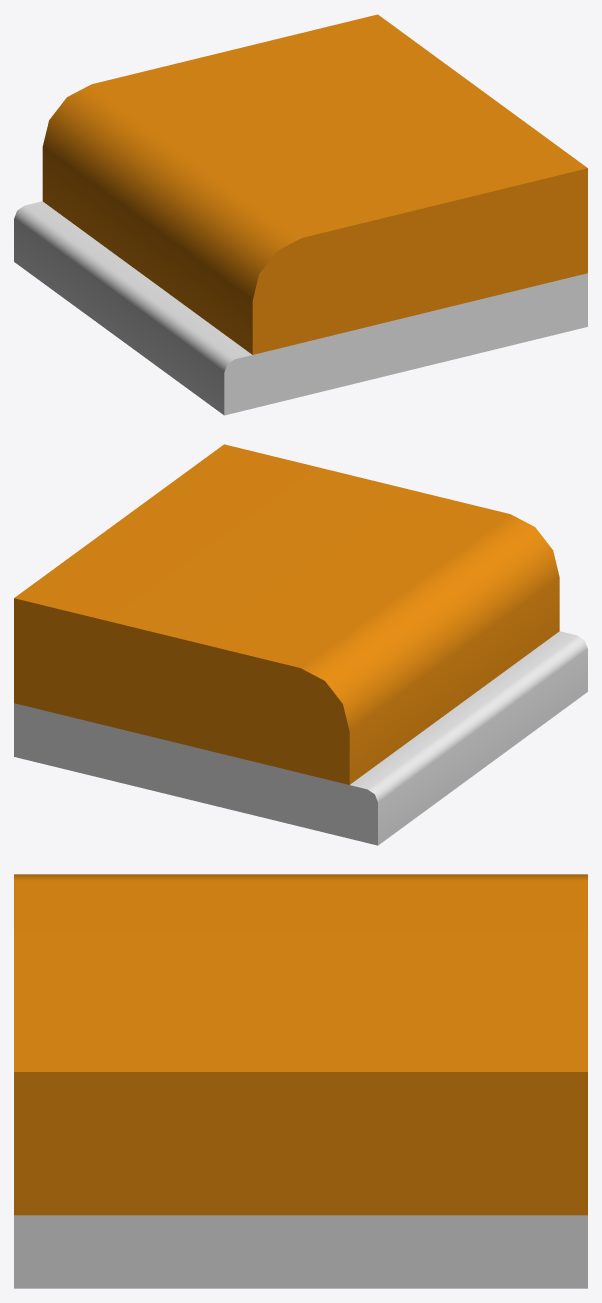
File: Wall_Straight.fbx
The picture shows the model from 3 angles, top to bottom: view 1: azimuth 30°, elevation 25°; view 2: azimuth 150°, elevation 25°; view 3: azimuth 270°, elevation 25°; orthographic projection. The views are drawn at different scales.
Parts seen in each view (by area): view 1: Wall_Straight; view 2: Wall_Straight; view 3: Wall_Straight.
Boxes of the visible parts, box(x1,y1,x2,y2) form: Wall_Straight: box(14, 14, 587, 415); Wall_Straight: box(14, 444, 587, 845); Wall_Straight: box(14, 874, 587, 1288).
Size of the model in its own units: 70.82 by 29.5 by 70.82.
